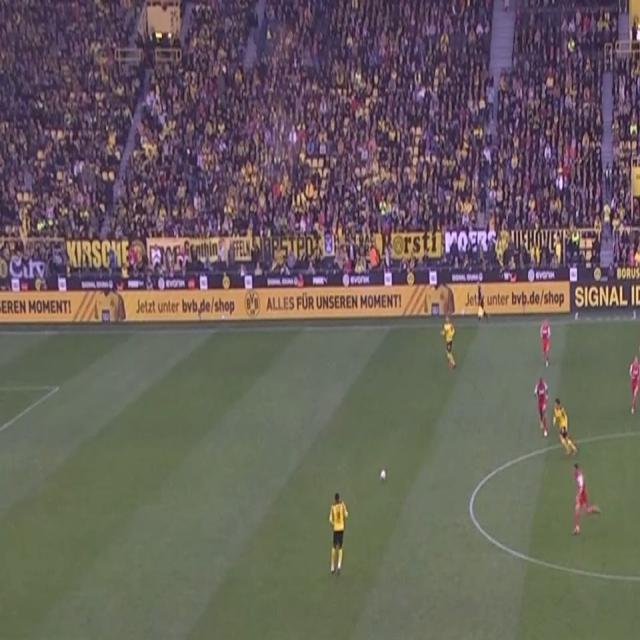ball: (379, 467, 388, 483)
